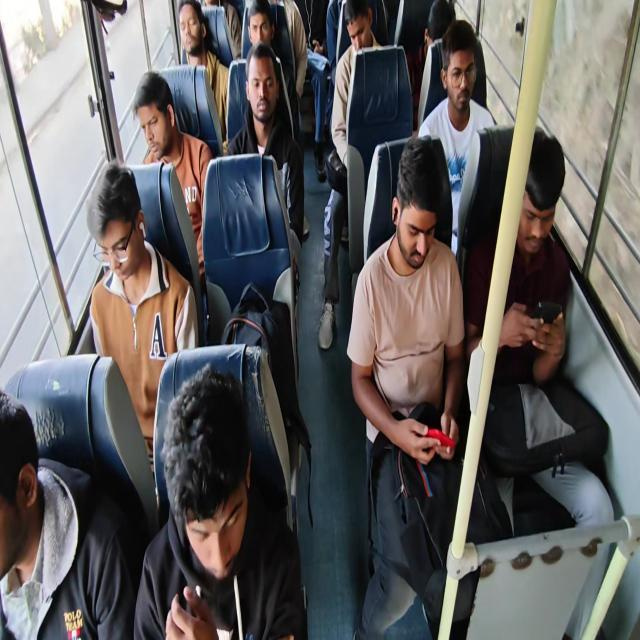person: (346, 134, 512, 639), (463, 125, 615, 637), (133, 362, 308, 638), (86, 160, 199, 498), (0, 389, 135, 639), (318, 0, 386, 350), (417, 19, 498, 256), (132, 70, 213, 282), (226, 41, 305, 248), (242, 0, 304, 141), (177, 0, 229, 143), (294, 0, 330, 182), (409, 0, 456, 130), (201, 0, 242, 62), (246, 0, 275, 50)
